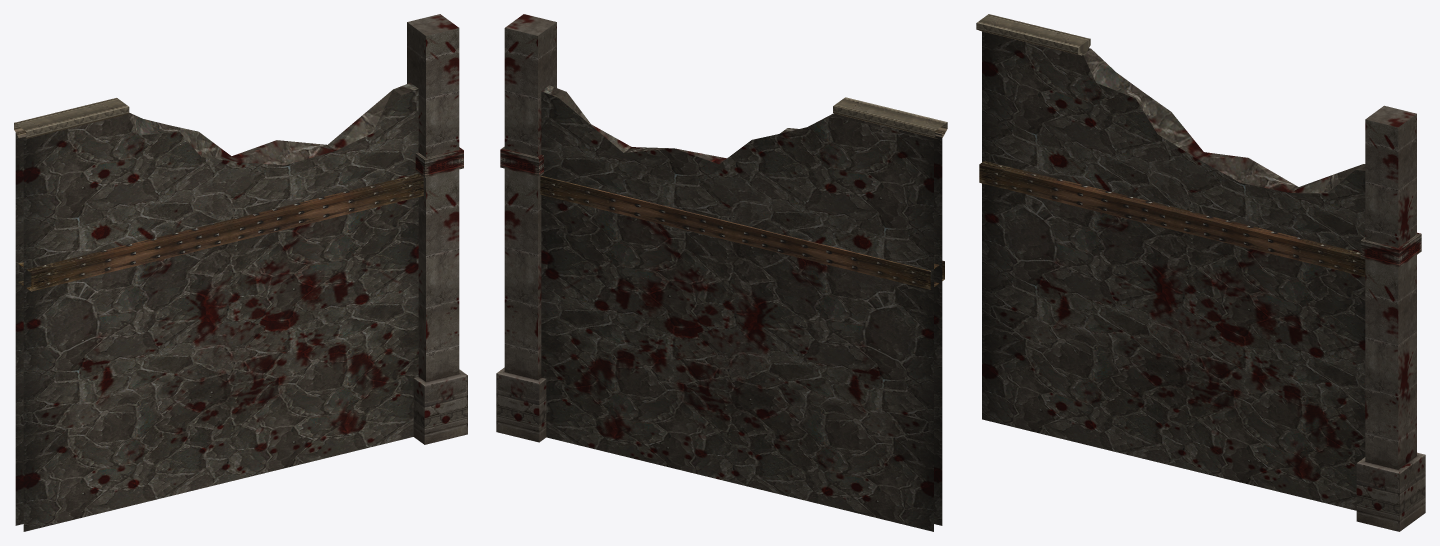
File: blsd_shiqiang_06.FBX
3 renders of one model, left to right at view 1: azimuth 30°, elevation 25°; view 2: azimuth 150°, elevation 25°; view 3: azimuth 330°, elevation 25°, orthographic.
Visible parts, largest first — view 1: blsd_shiqiang_06; view 2: blsd_shiqiang_06; view 3: blsd_shiqiang_06.
Boxes of the visible parts, x1,y1,x2,y2 form: blsd_shiqiang_06: [14, 14, 467, 531]; blsd_shiqiang_06: [496, 14, 947, 531]; blsd_shiqiang_06: [976, 14, 1425, 531].
Size of the model in its own units: 562 by 501 by 58.71.
